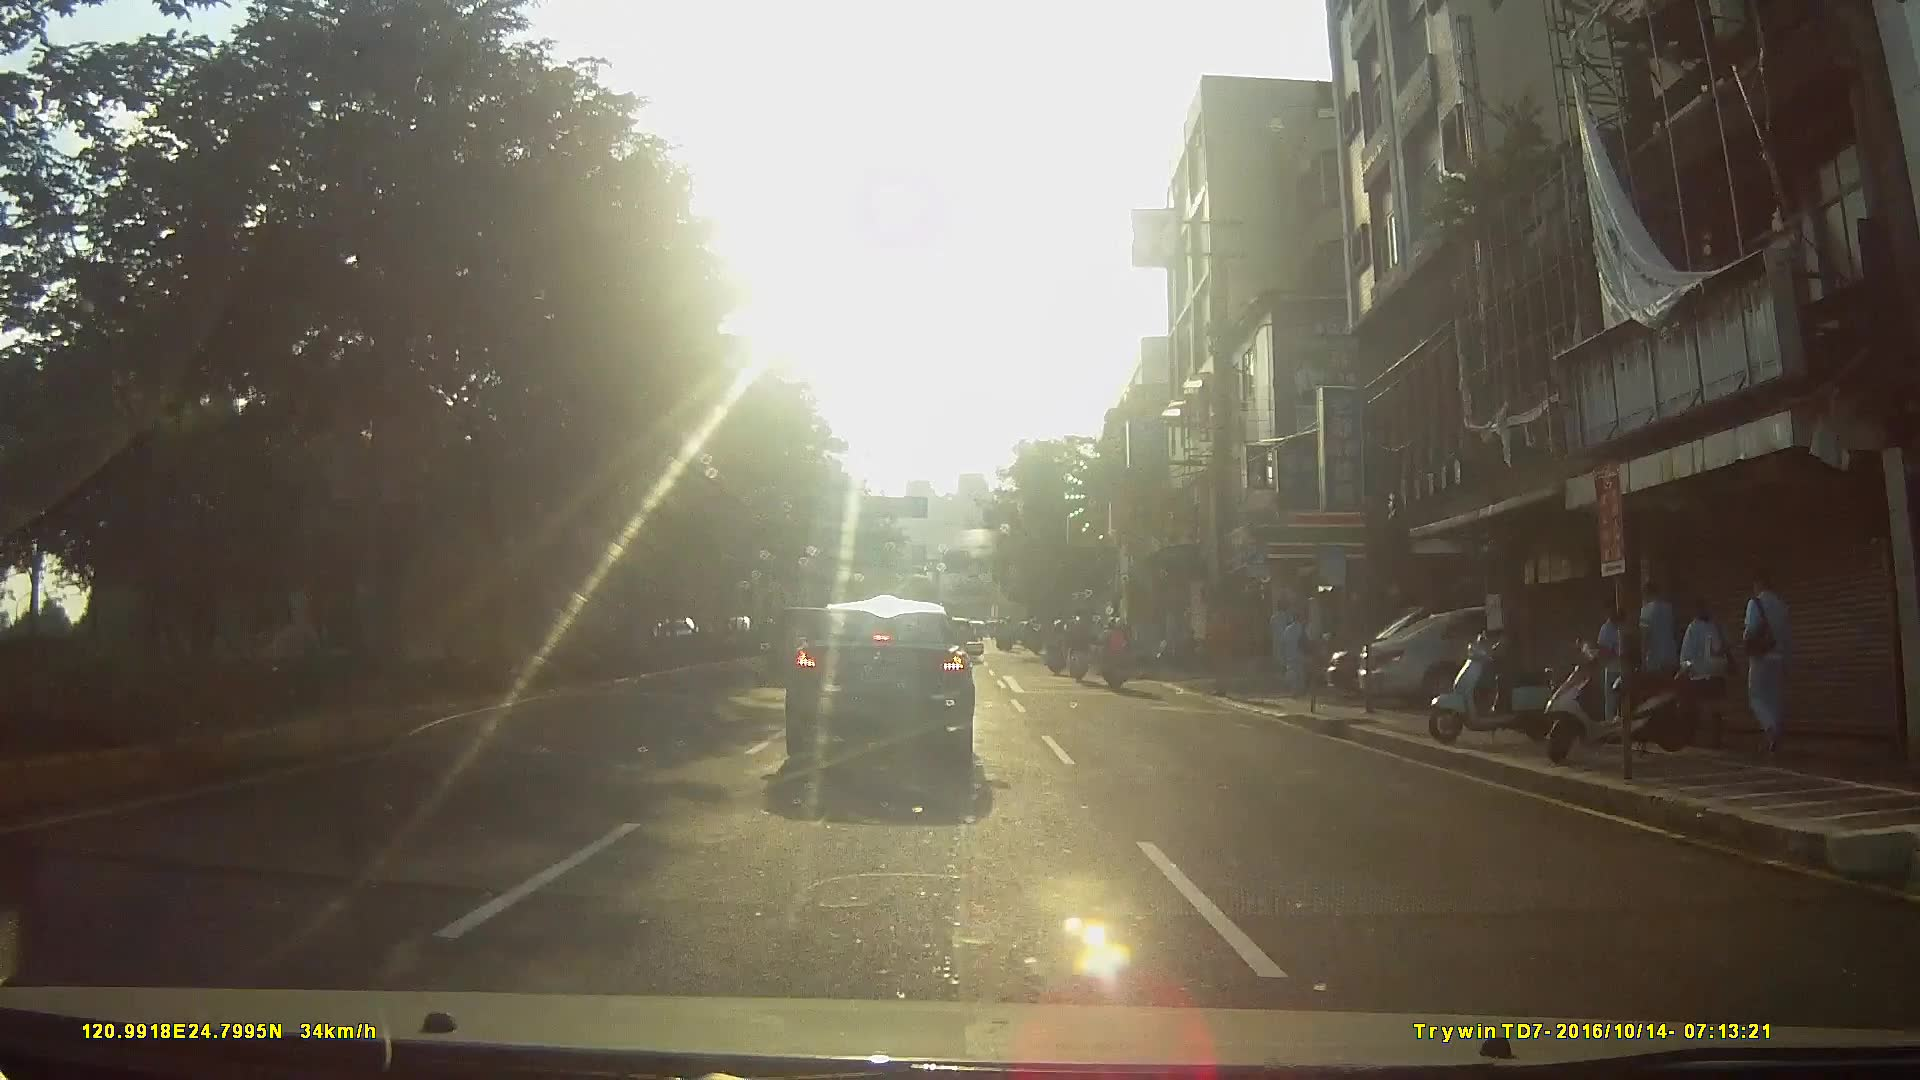pedestrian: (1738, 567, 1794, 754), (1634, 569, 1684, 724), (1680, 597, 1726, 730), (1275, 605, 1317, 702)
rider: (1100, 615, 1137, 695), (1064, 613, 1092, 687), (1042, 620, 1069, 679)
vehicle: (768, 588, 995, 784), (1352, 597, 1676, 715)
